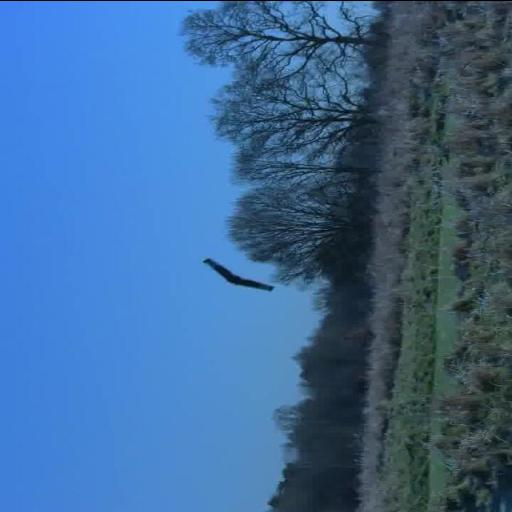uav: (193, 254, 281, 294)
